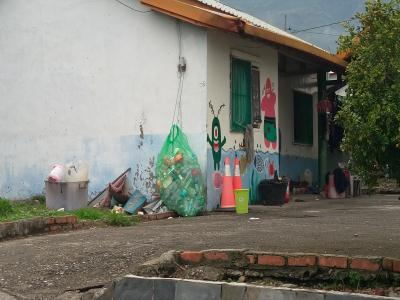bucket: (44, 178, 90, 211), (233, 187, 251, 217)
plastic_bag: (156, 133, 204, 218)
